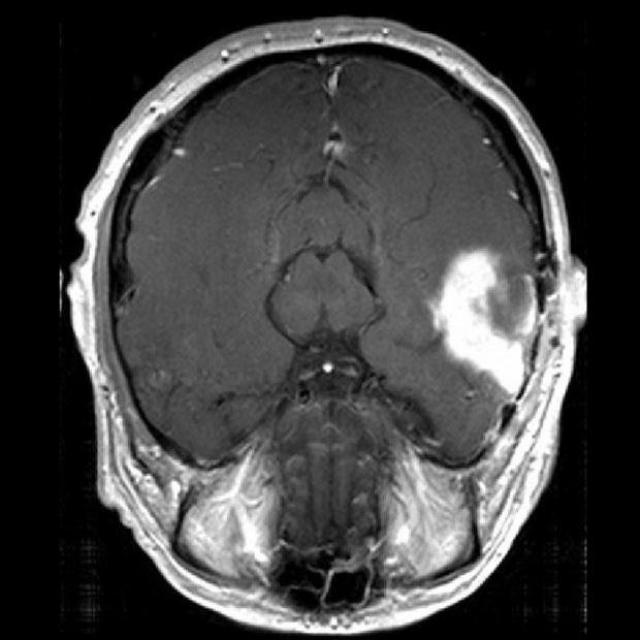Tumor-Cell: (412, 236, 550, 424)
